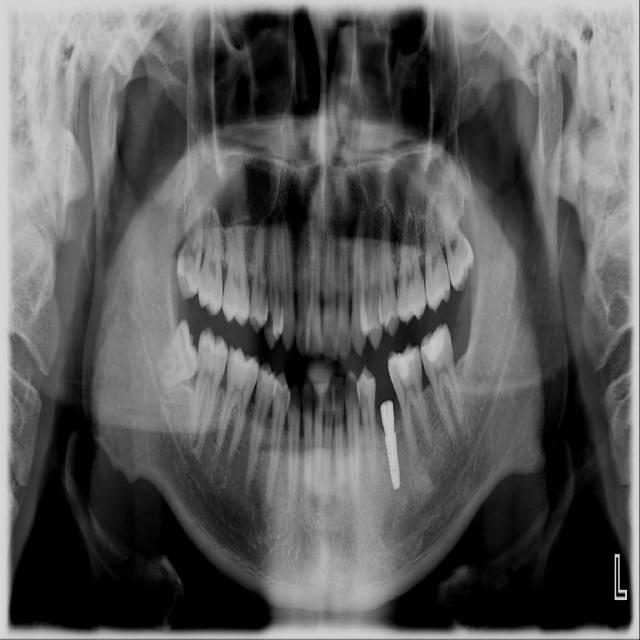Filling: (421, 331, 444, 362)
Implant: (380, 402, 400, 488)
impacted tooth: (152, 322, 196, 385)
